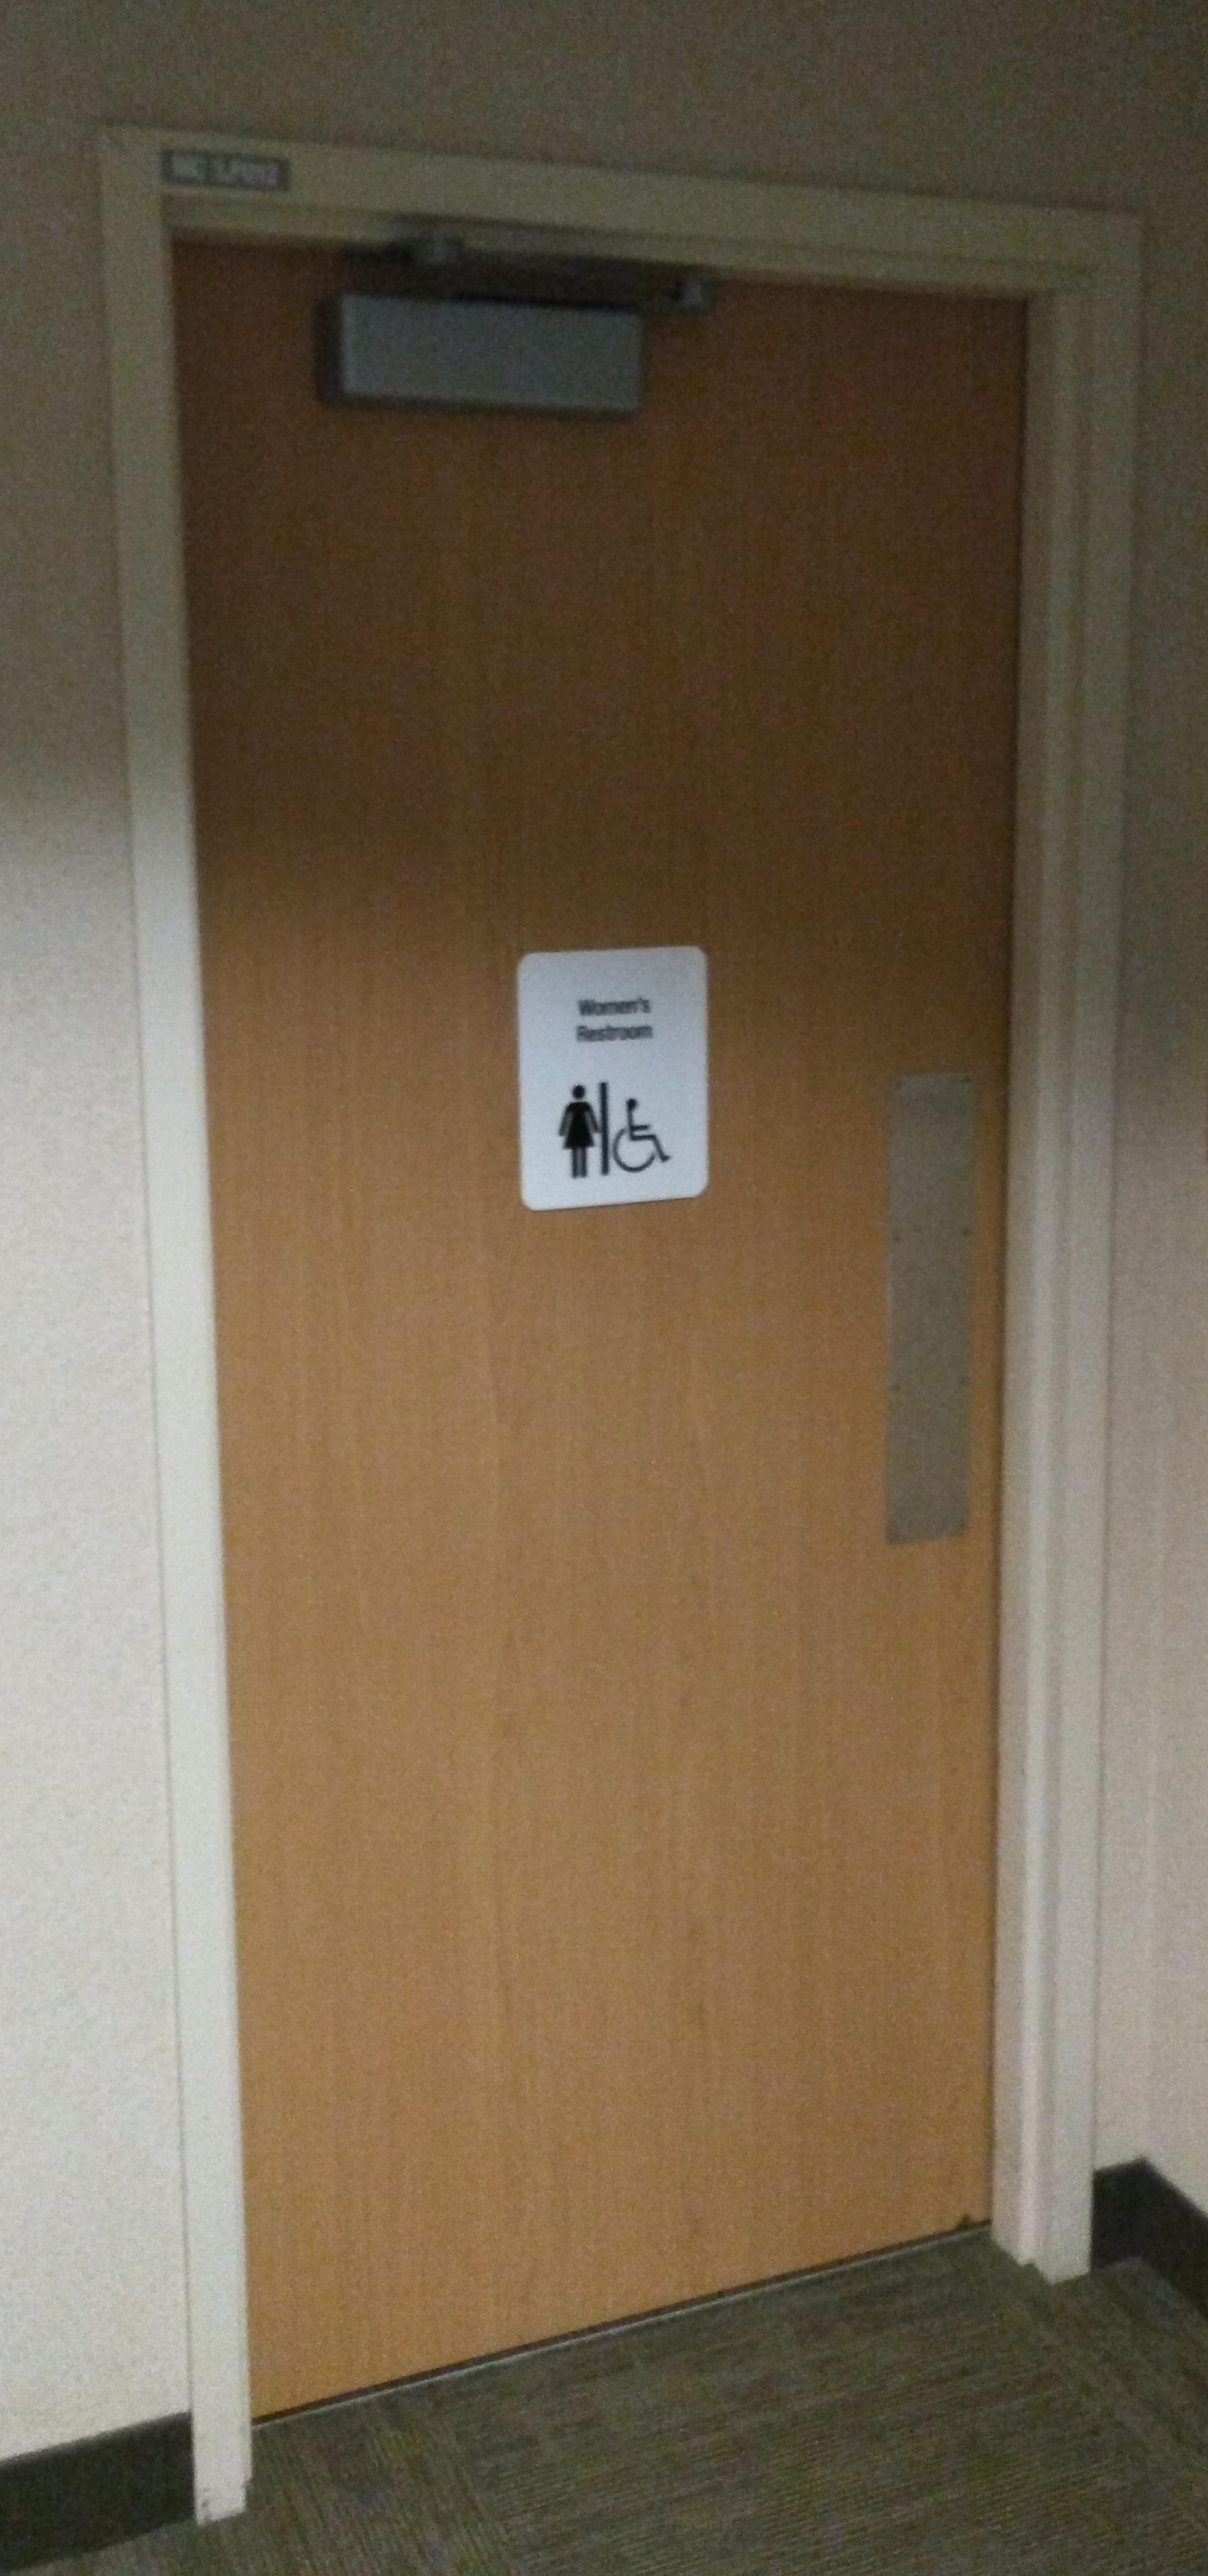door: (102, 123, 1149, 2528)
sign: (519, 951, 712, 1206)
